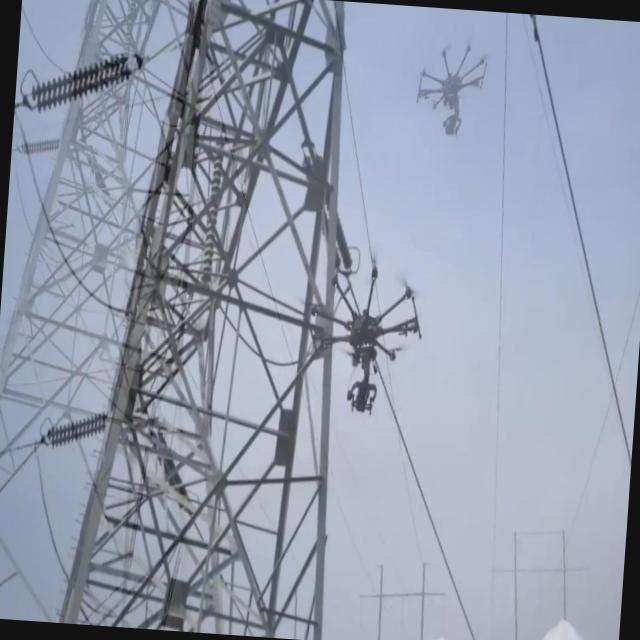drone: (298, 254, 428, 424)
